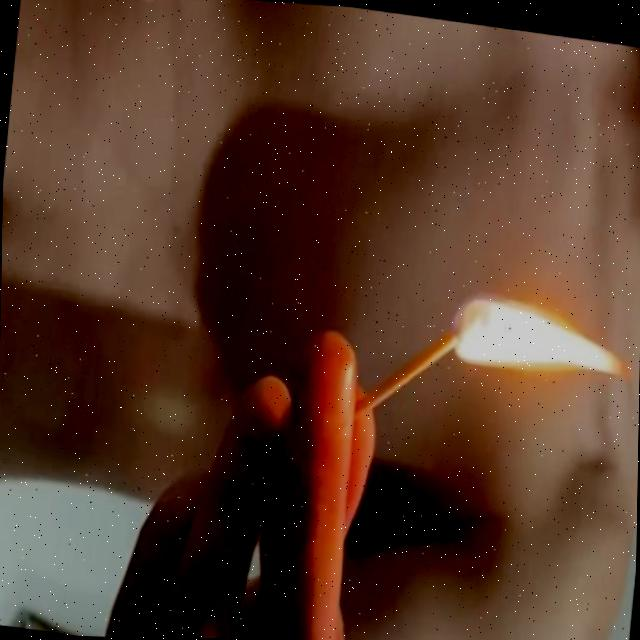fire: (442, 285, 640, 393)
